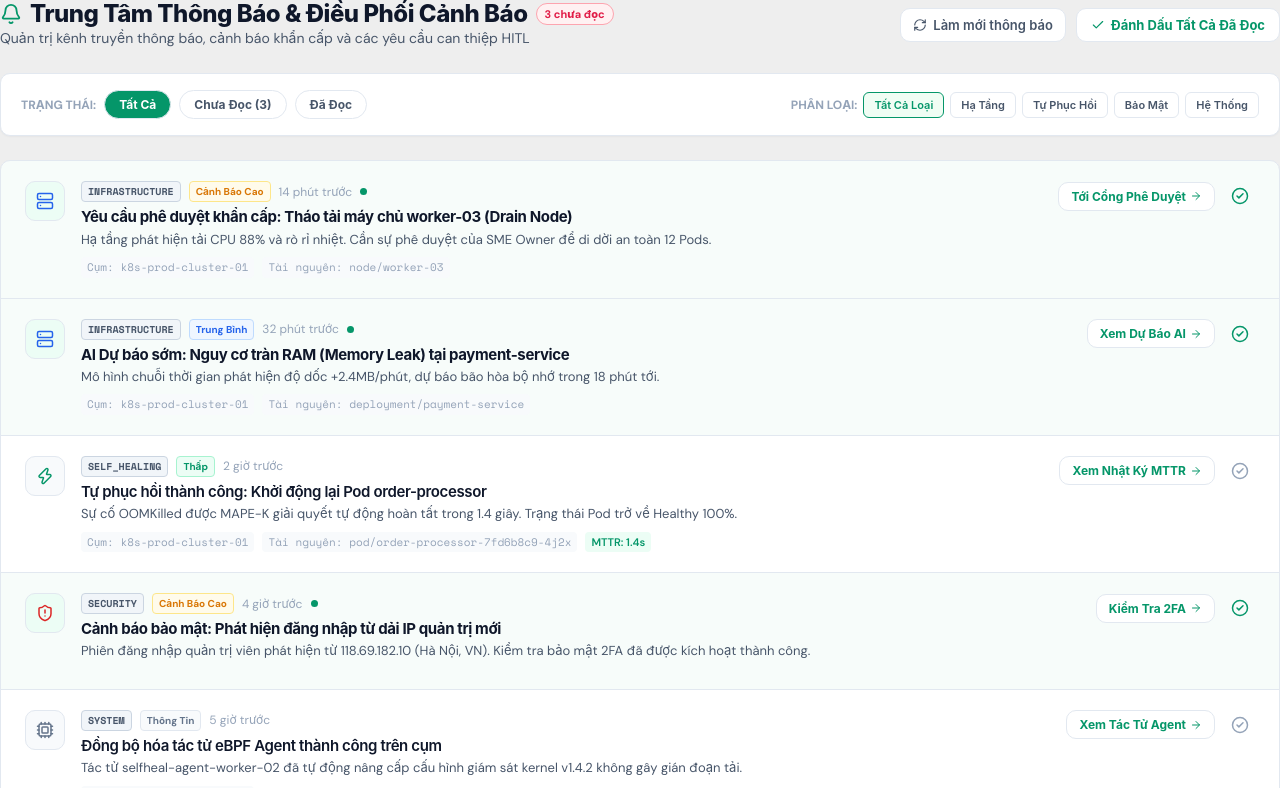
Test case: NotificationsPage Suite (/dashboard/notifications) › displays empty state when filter returns no matching items
// Mark all read first
Click the button with test id "btn-mark-all-read" at (1178, 25), box [1076,8,1279,42]
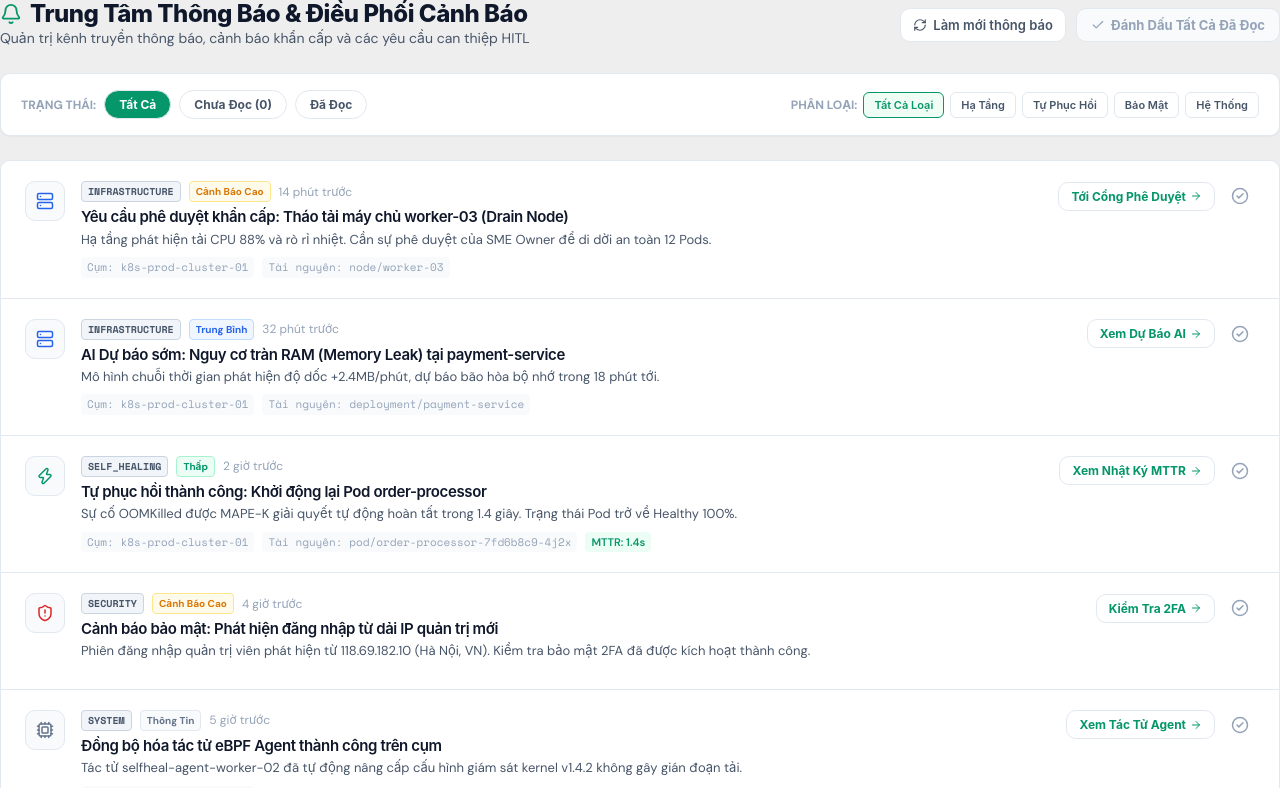
// Click 'Chưa Đọc' tab when none are unread
Click the button with test id "filter-status-UNREAD" at (233, 105), box [179,90,287,119]
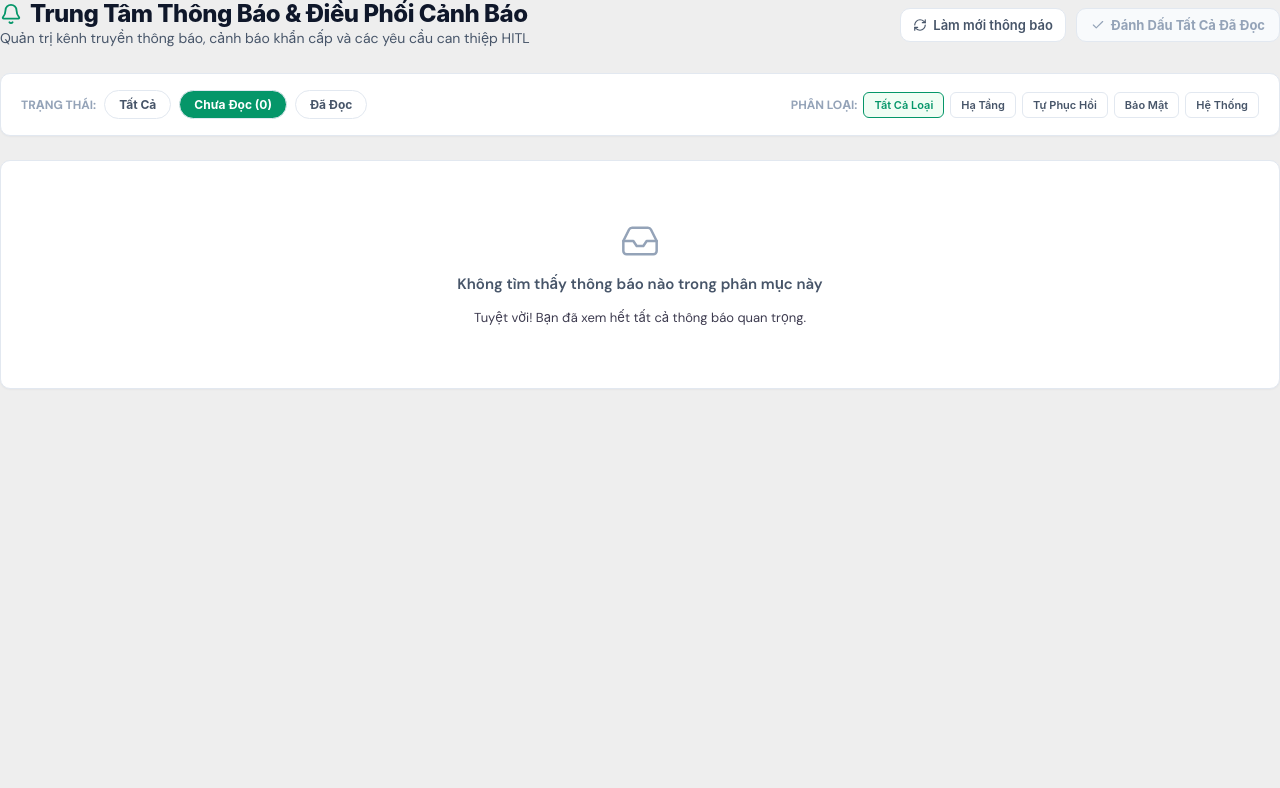
Expected: the text "Không tìm thấy thông báo nào trong phân mục này" is shown, [457,273,823,296]
